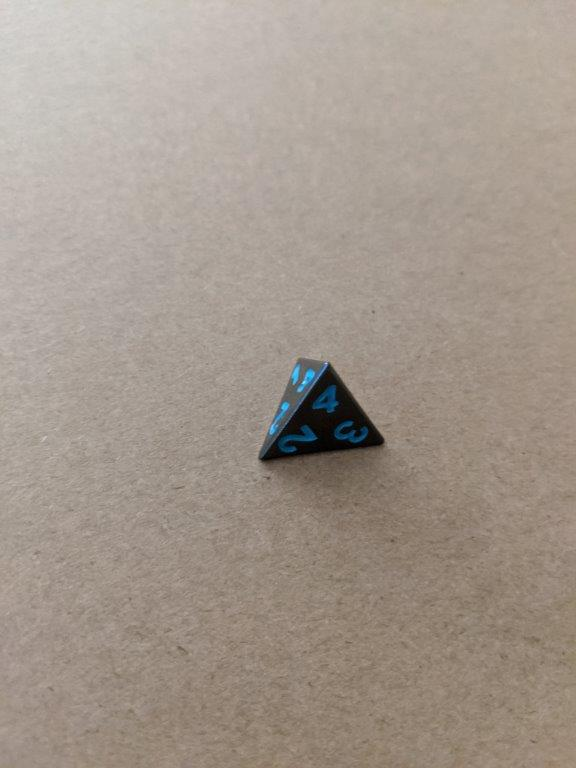d4-4: (256, 352, 387, 463)
